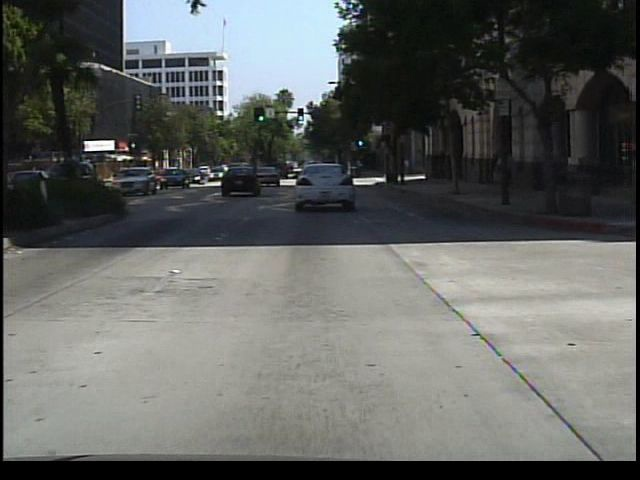person: (496, 150, 516, 202)
